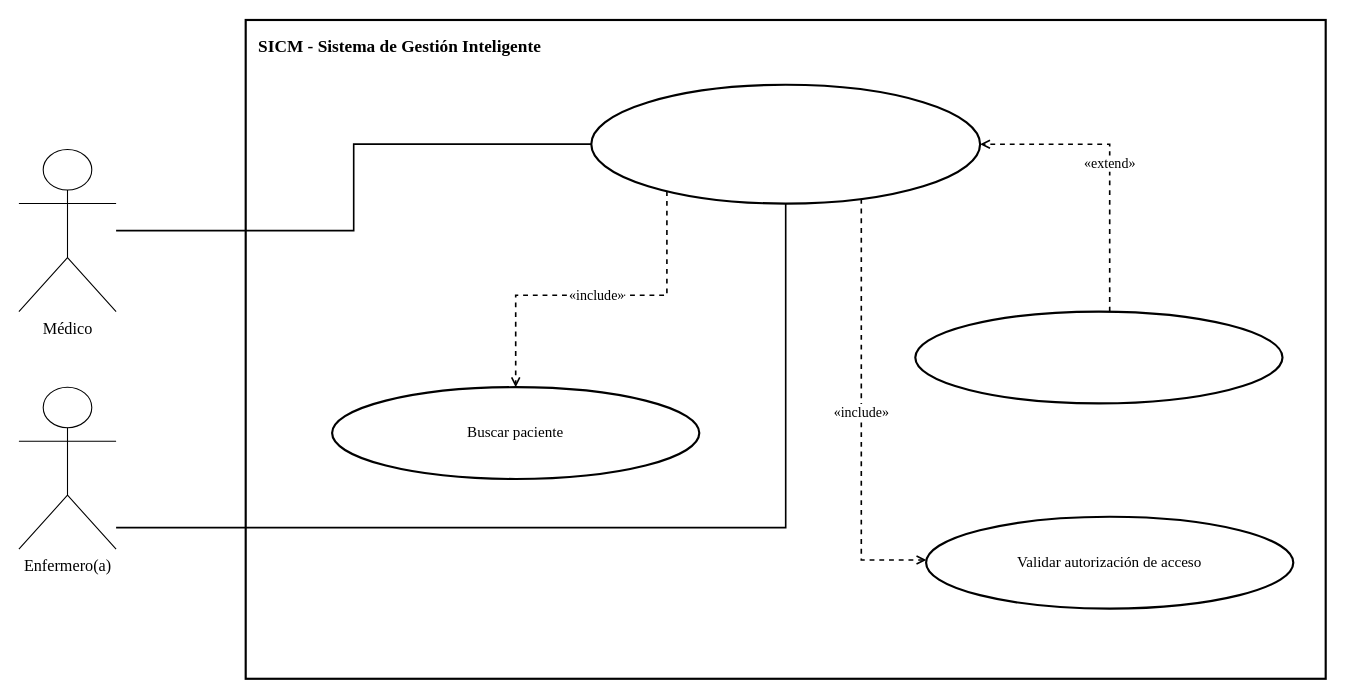
Image size: 1346x698. Some labels were removed from this diagram. The shapes that lost their labels are listed below. From the top down, each one's centre as x and y in pixels, then its label:
(x=785, y=143): Consultar historial clínico
(x=1098, y=357): Notificar paciente no registrado
